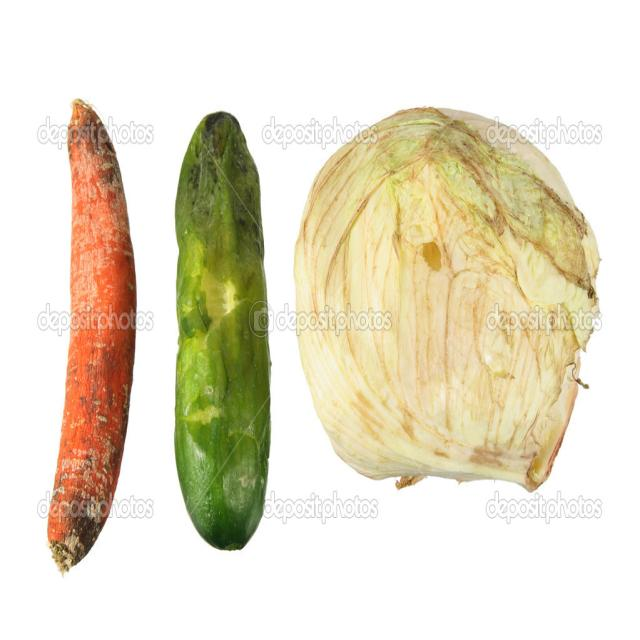Wet Waste: (323, 94, 604, 523), (185, 105, 264, 560), (49, 91, 109, 570)
